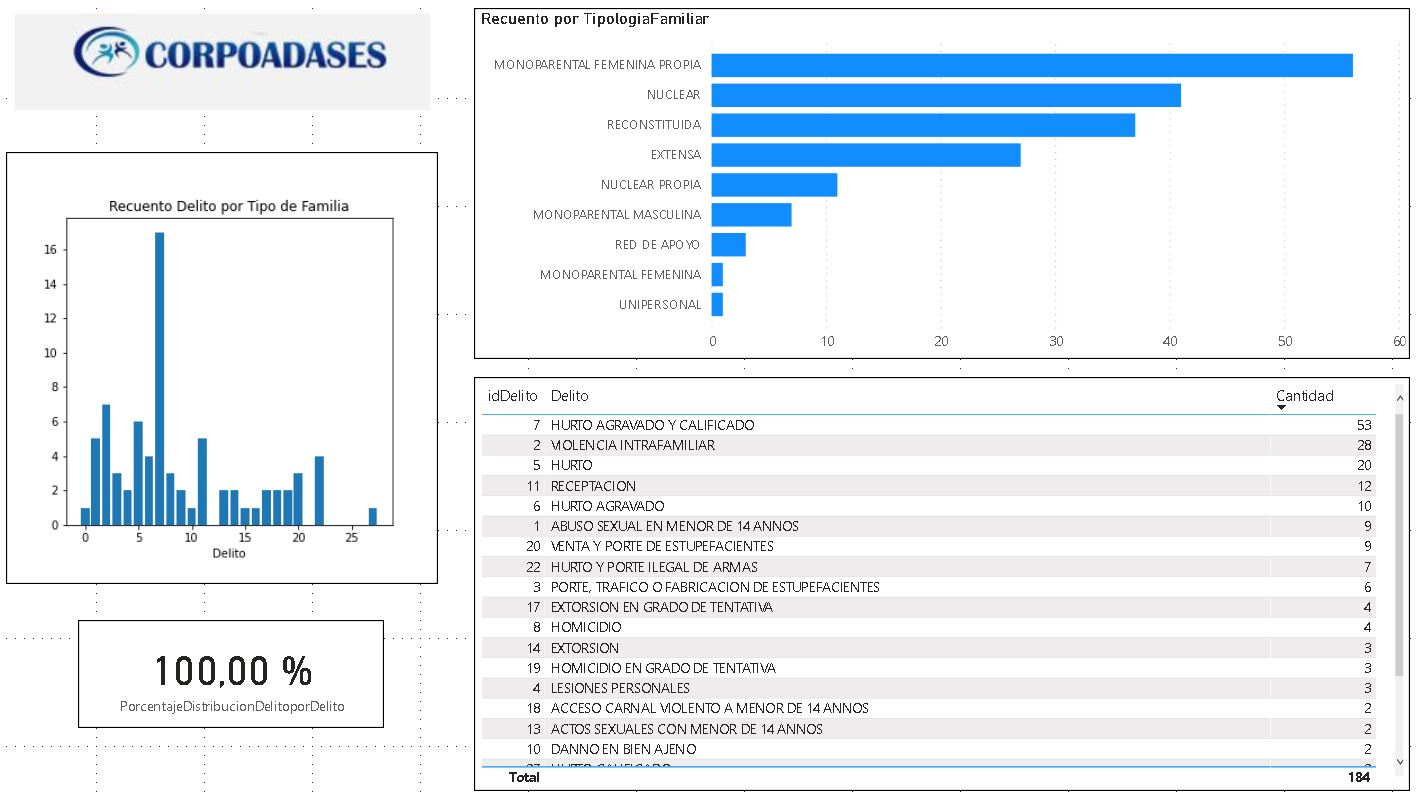

The dashboard page shown, as its layout file describes it:
{"tool":"powerbi","page":{"name":"TipologiaFamiliar","canvas":[1280,720],"ordinal":2},"visuals":[{"type":"image","box":[16,16,384,96],"z":0},{"type":"barChart","fields":{"Category":["CSV_Visualizacion3.tip_familiar"],"Y":["CountNonNull(CSV_Visualizacion3.tip_familiar)"]},"box":[432,16,832,312],"z":1000},{"type":"tableEx","fields":{"Values":["CSV_Visualizacion3.idDelito","CSV_Visualizacion3.delito","CSV_Visualizacion3.cantidadRegitros"]},"box":[432,344,832,368],"z":2000},{"type":"pythonVisual","fields":{"Values":["CSV_Visualizacion3.tip_familiar","CSV_Visualizacion3.cantidadRegitros","CSV_Visualizacion3.idDelito"]},"box":[16,144,384,384],"z":3000},{"type":"card","fields":{"Values":["CSV_Visualizacion3.Medida 2"]},"box":[80,560,272,96],"z":4001}]}

Visuals, with their boxes in screenshot pixels (x1, y1, x2, y2), scaled from the page's 1280x720 canvas onto the 1417x796 screenshot:
image: (18,18,443,124)
barChart - CSV_Visualizacion3.tip_familiar x CountNonNull(CSV_Visualizacion3.tip_familiar): (478,18,1399,363)
tableEx - CSV_Visualizacion3.idDelito x CSV_Visualizacion3.delito: (478,380,1399,787)
pythonVisual - CSV_Visualizacion3.tip_familiar x CSV_Visualizacion3.cantidadRegitros: (18,159,443,584)
card - CSV_Visualizacion3.Medida 2: (89,619,390,725)
